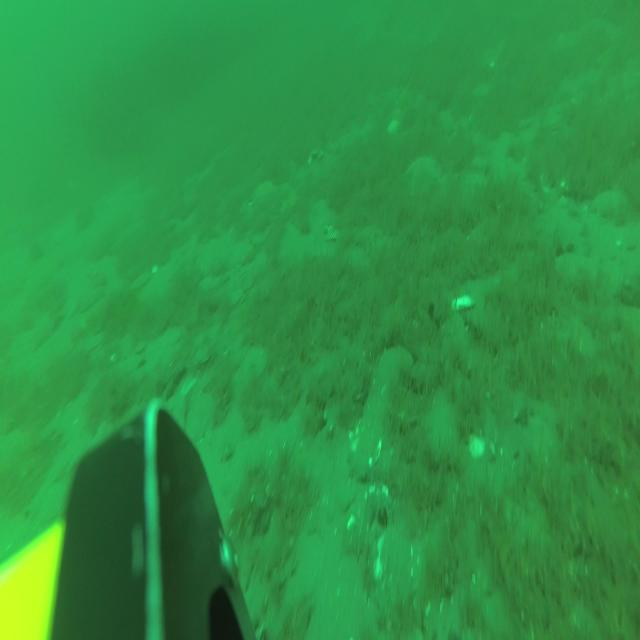scallop: (557, 250, 598, 292), (380, 346, 414, 391), (188, 392, 215, 445), (592, 190, 627, 218), (241, 344, 266, 382), (199, 273, 221, 297), (132, 270, 150, 292), (232, 288, 246, 311), (88, 336, 104, 354)
starfish: (406, 154, 440, 199), (251, 180, 278, 215)
